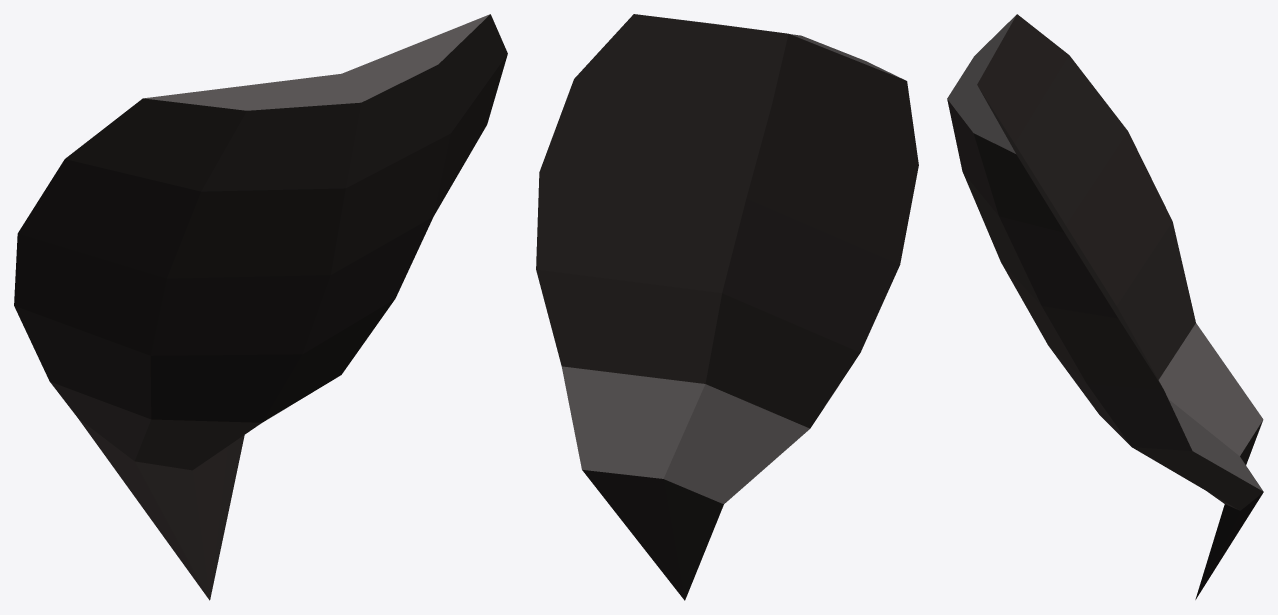
File: facial_hair_goatee_01.glb
The picture shows the model from 3 angles, left to right: view 1: azimuth 30°, elevation 25°; view 2: azimuth 150°, elevation 25°; view 3: azimuth 270°, elevation 25°; orthographic projection. The views are drawn at different scales.
Visible parts, largest first — view 1: facial_hair_goatee_01; view 2: facial_hair_goatee_01; view 3: facial_hair_goatee_01.
Part boxes in pixels (bbox=[...]): facial_hair_goatee_01: bbox=[14, 14, 507, 600]; facial_hair_goatee_01: bbox=[536, 14, 918, 600]; facial_hair_goatee_01: bbox=[947, 14, 1263, 599].
Bounding box in the file's own units: 0.0398 × 0.0511 × 0.0284.
Materials: 1 (1 with a texture image).
